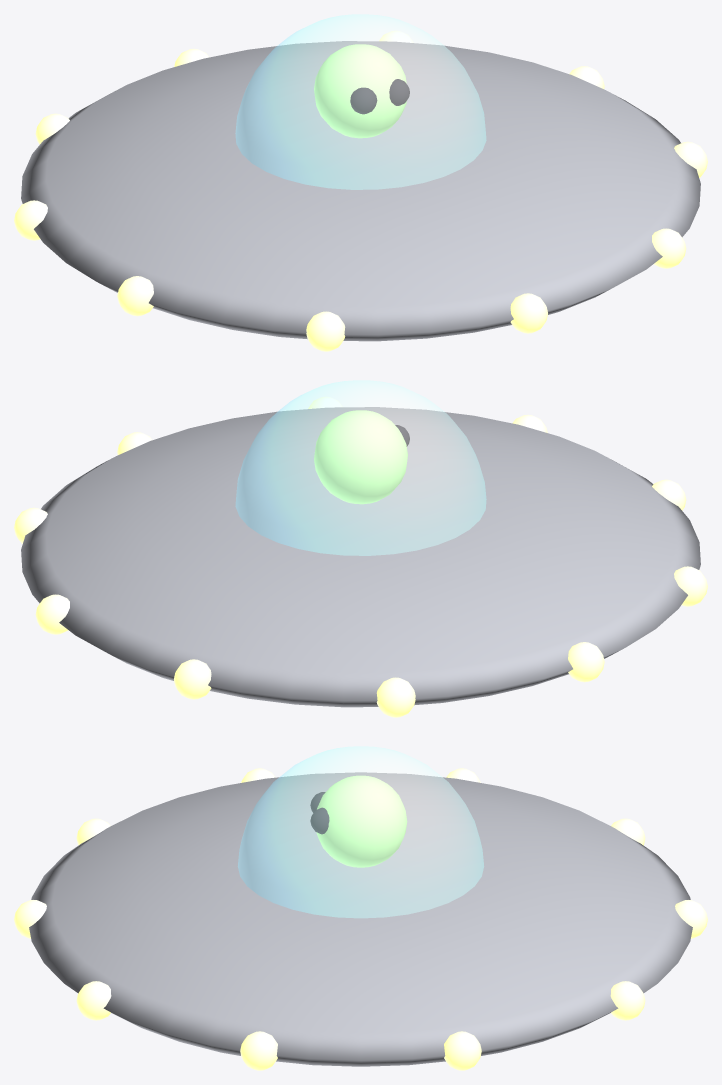
The model's file is ufo.glb.
3 renders of one model, top to bottom at view 1: azimuth 30°, elevation 25°; view 2: azimuth 150°, elevation 25°; view 3: azimuth 270°, elevation 25°, orthographic. The views are drawn at different scales.
Visible parts, largest first — view 1: hull, dome, lights, alien_head, alien_eyes; view 2: hull, dome, lights, alien_head; view 3: hull, dome, lights, alien_head, alien_eyes.
Boxes of the visible parts, <box> form: hull: <box>21,41,700,341</box>; dome: <box>235,14,486,189</box>; lights: <box>14,30,707,351</box>; alien_head: <box>314,44,406,138</box>; alien_eyes: <box>350,79,409,114</box>; hull: <box>21,407,700,707</box>; dome: <box>235,380,486,555</box>; lights: <box>14,396,707,717</box>; alien_head: <box>314,410,407,504</box>; hull: <box>29,772,692,1066</box>; dome: <box>238,746,483,918</box>; lights: <box>14,768,707,1070</box>; alien_head: <box>316,775,407,867</box>; alien_eyes: <box>310,792,329,834</box>.
Size of the model in its own units: 1.08 by 0.412 by 1.12.
